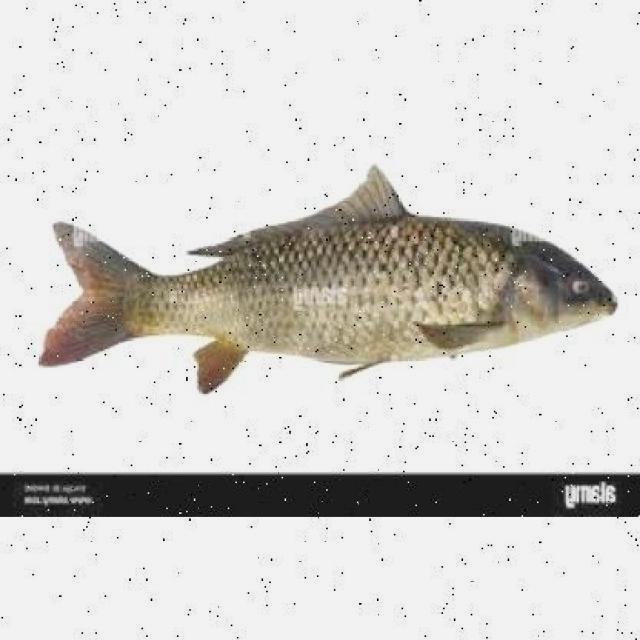ikan-mas: (47, 196, 621, 372)
